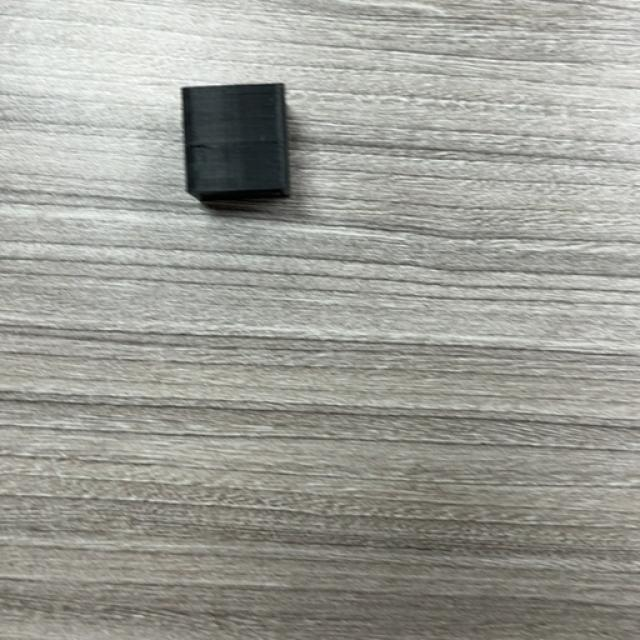Negro: (181, 84, 291, 205)
